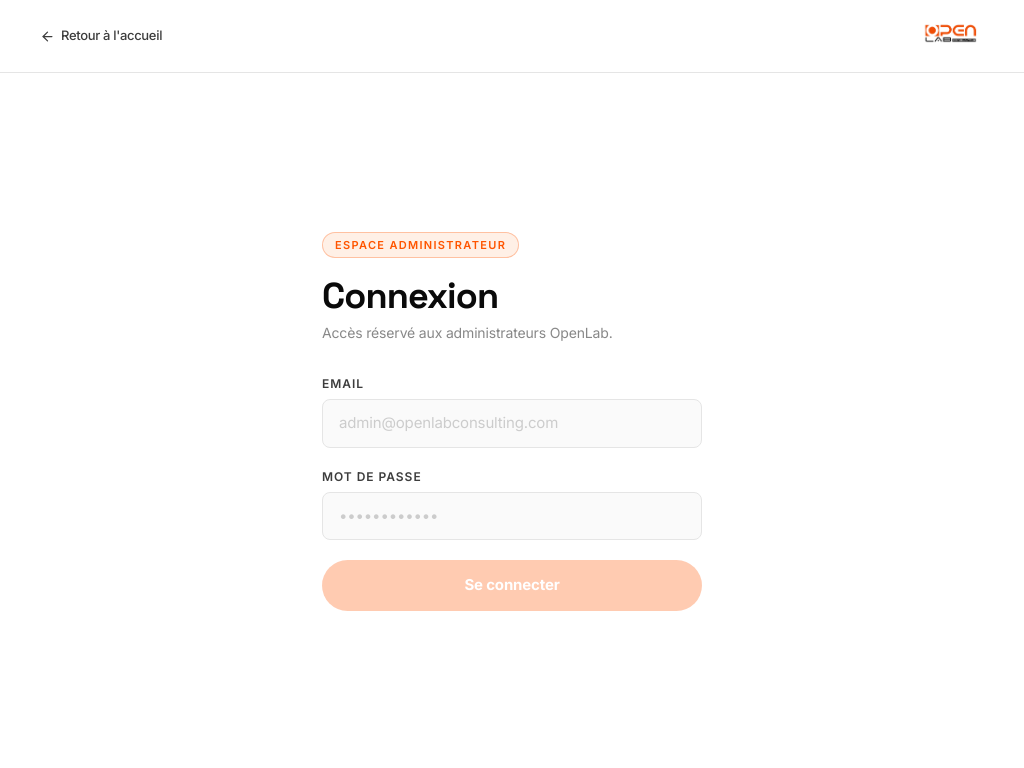
AdminLogin › affiche l'erreur si login échoue
Type "bad@test.ci" into the field labelled "Email" at (512, 423), box [322, 399, 702, 448]
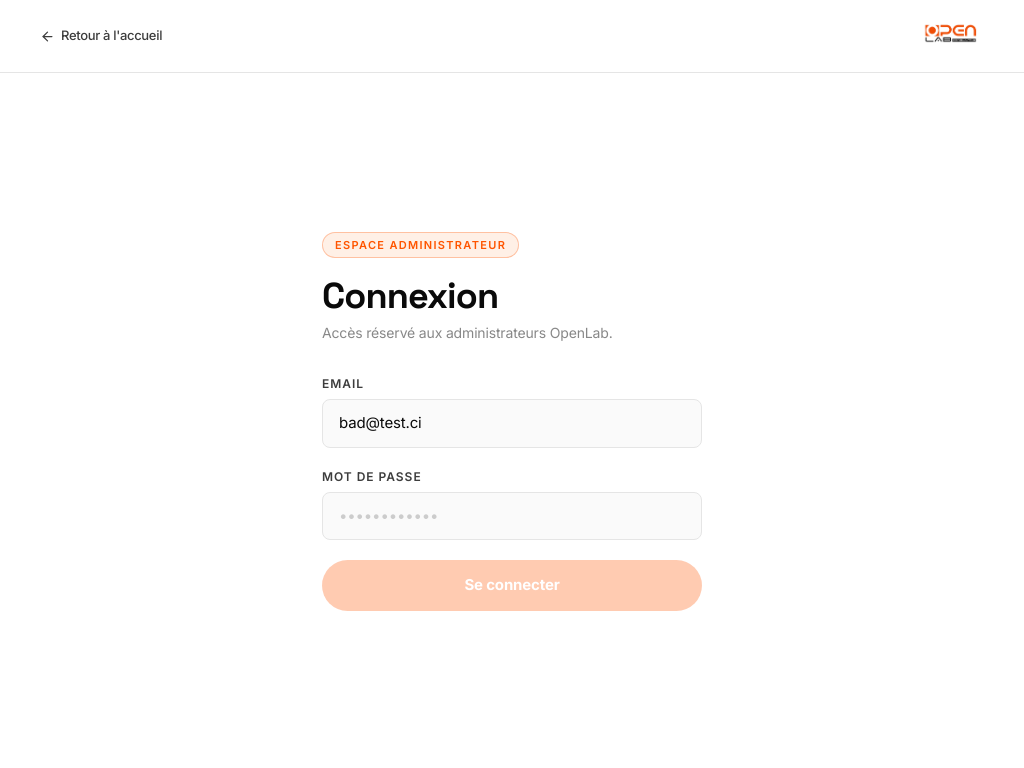
Type "WrongPass123!" into the password field labelled "Mot de passe" at (512, 516), box [322, 492, 702, 540]
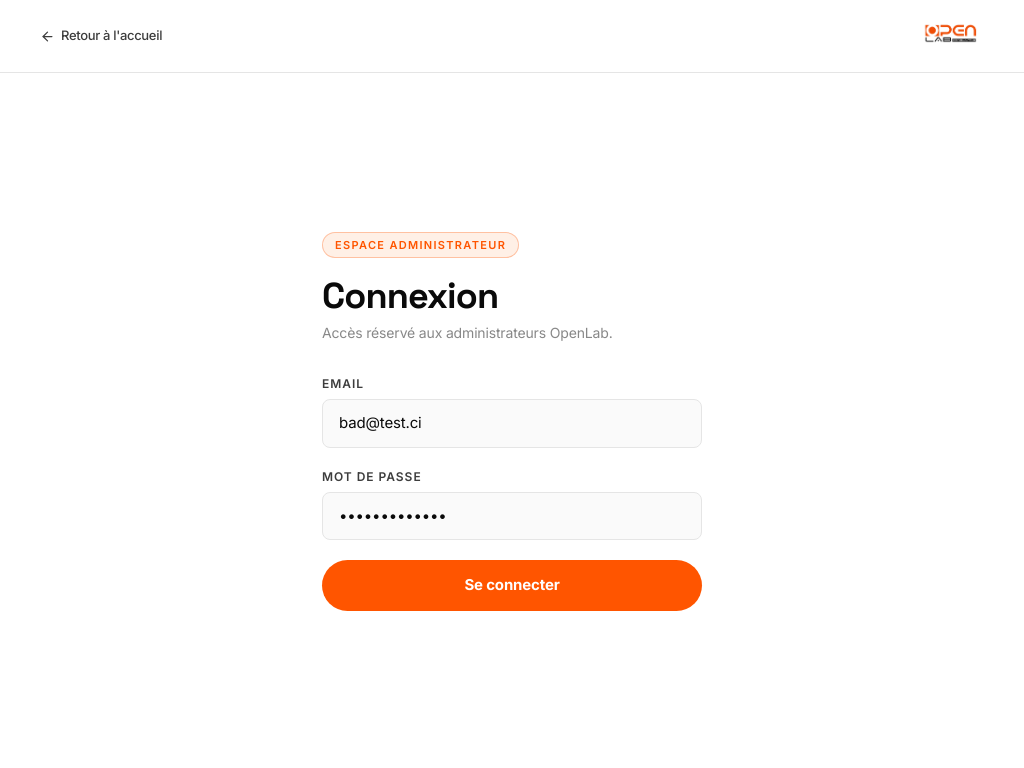
Click the button "Se connecter" at (512, 585), box [322, 560, 702, 610]
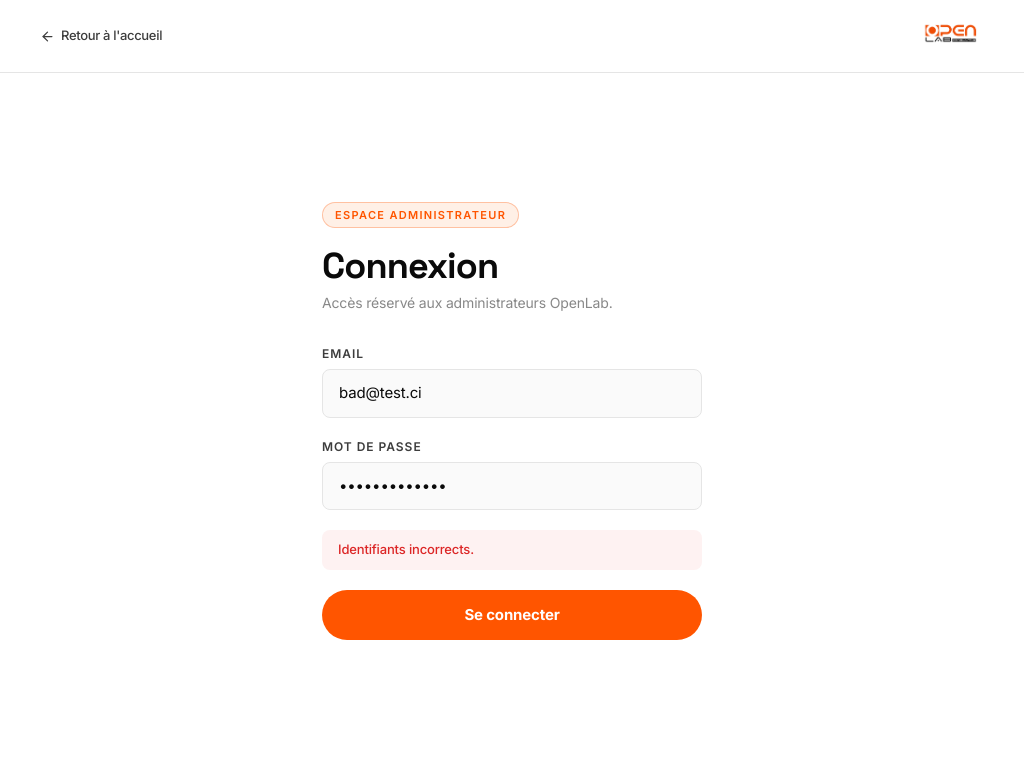
Expected: the message "Identifiants incorrects." is shown, [322, 530, 702, 570]
